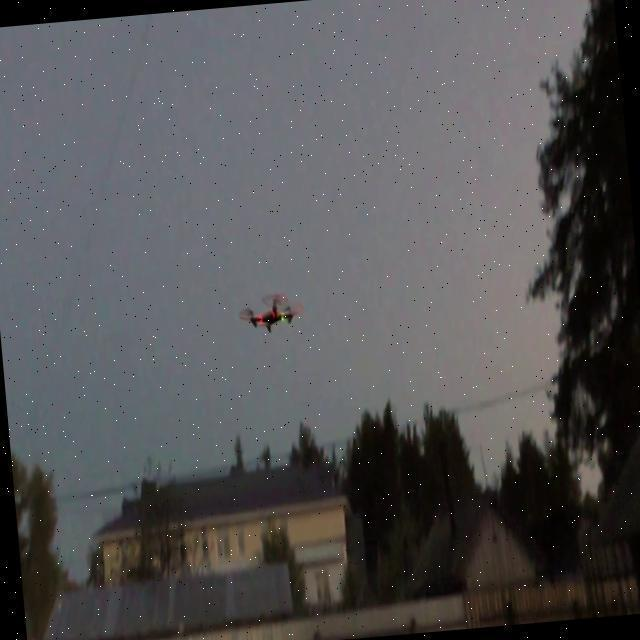Drons: (234, 290, 310, 340)
